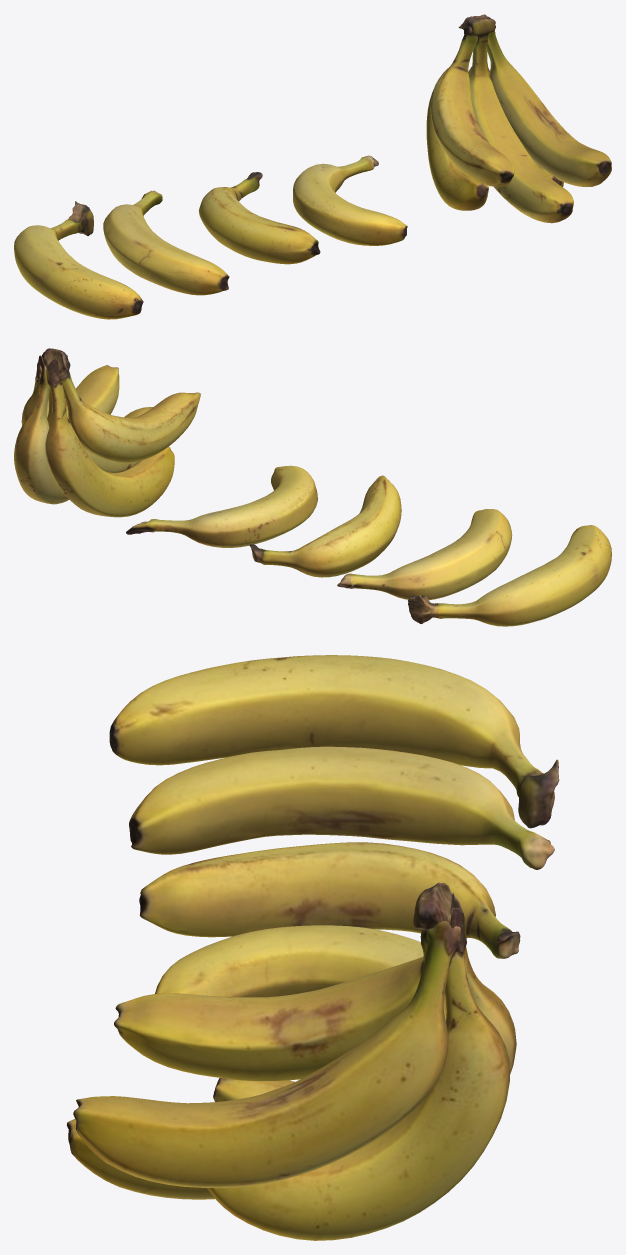
File: bananas.glb
3 views of the same model, one above another, from view 1: azimuth 30°, elevation 25°; view 2: azimuth 150°, elevation 25°; view 3: azimuth 270°, elevation 25° (orthographic). The views are drawn at different scales.
Visible parts, largest first — view 1: bananas_bunch, bananas_d, bananas_c, bananas_a, bananas_b; view 2: bananas_bunch, bananas_d, bananas_c, bananas_a, bananas_b; view 3: bananas_bunch, bananas_d, bananas_c, bananas_b, bananas_a.
Part boxes in pixels (left/top/right/bottom): bananas_bunch: left=426, top=14, right=611, bottom=223; bananas_d: left=14, top=201, right=143, bottom=319; bananas_c: left=103, top=190, right=229, bottom=295; bananas_a: left=293, top=155, right=407, bottom=245; bananas_b: left=198, top=172, right=320, bottom=264; bananas_bunch: left=14, top=348, right=200, bottom=517; bananas_d: left=408, top=525, right=611, bottom=626; bananas_c: left=337, top=509, right=512, bottom=600; bananas_a: left=126, top=465, right=317, bottom=547; bananas_b: left=249, top=475, right=401, bottom=577; bananas_bunch: left=67, top=882, right=516, bottom=1240; bananas_d: left=109, top=655, right=559, bottom=828; bananas_c: left=129, top=746, right=554, bottom=869; bananas_b: left=139, top=842, right=520, bottom=958; bananas_a: left=155, top=925, right=423, bottom=997.
Size of the model in its own units: 0.6 by 0.1788 by 0.2441.
1 material, 1 textured.
